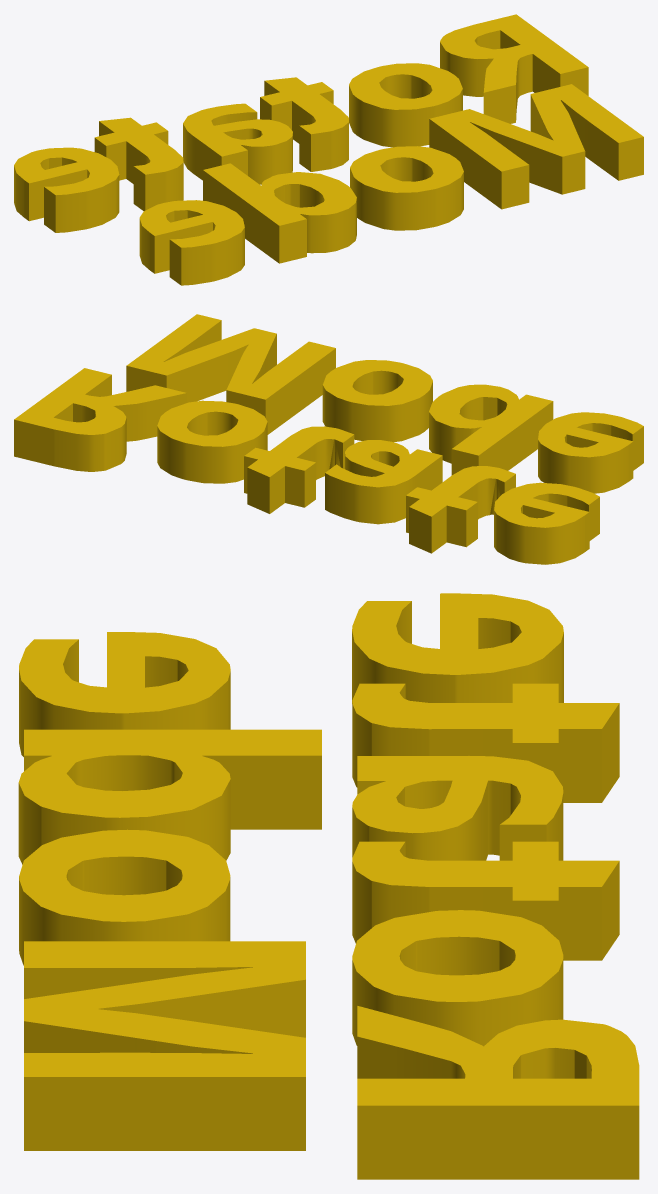
Rendered from RotateMode.fbx.
The picture shows the model from 3 angles, top to bottom: view 1: azimuth 30°, elevation 25°; view 2: azimuth 150°, elevation 25°; view 3: azimuth 270°, elevation 25°; orthographic projection. The views are drawn at different scales.
Parts seen in each view (by area): view 1: polySurface143; view 2: polySurface143; view 3: polySurface143.
Boxes of the visible parts, x1,y1,x2,y2 form: polySurface143: (14,14,643,285); polySurface143: (14,314,643,564); polySurface143: (18,593,639,1179).
Bounding box in the file's own units: 92.55 × 6.3 × 47.31.
